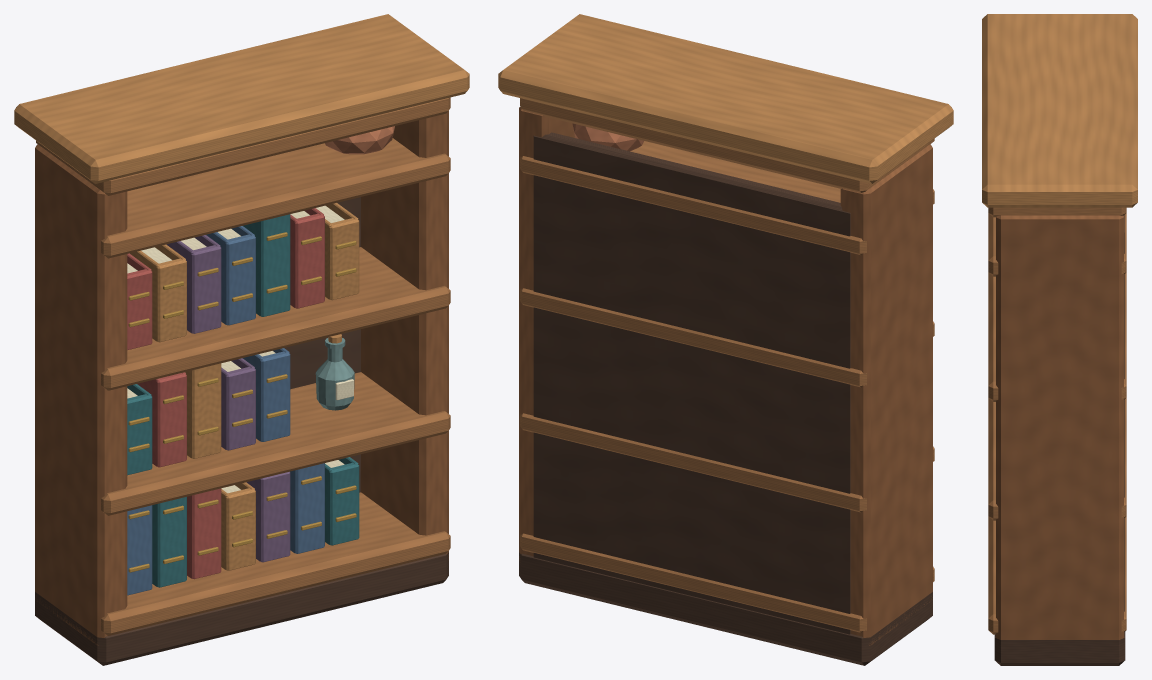
The model's file is bookcase_scholar.glb.
3 renders of one model, left to right at view 1: azimuth 30°, elevation 25°; view 2: azimuth 150°, elevation 25°; view 3: azimuth 270°, elevation 25°, orthographic. The views are drawn at different scales.
Visible parts, largest first — view 1: bookcase_scholar; view 2: bookcase_scholar; view 3: bookcase_scholar.
Boxes of the visible parts, x1,y1,x2,y2 form: bookcase_scholar: [14, 14, 469, 665]; bookcase_scholar: [498, 14, 953, 665]; bookcase_scholar: [982, 14, 1137, 665].
Bounding box in the file's own units: 1.65 × 2.14 × 0.62.
Materials: 1 (1 with a texture image).
